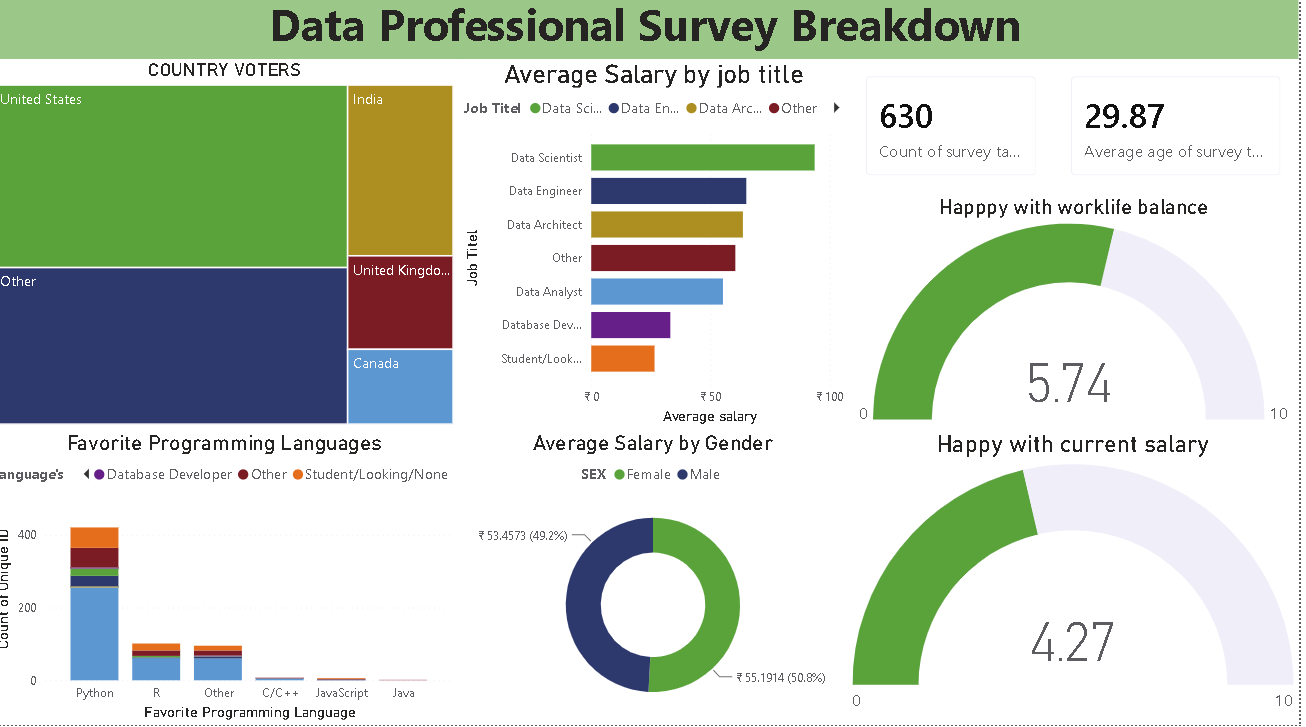

The dashboard page shown, as its layout file describes it:
{"tool":"powerbi","page":{"name":"Page 1","canvas":[1280,720],"ordinal":0},"visuals":[{"type":"textbox","box":[0,0,1280.3,68.9],"z":0},{"type":"cardVisual","fields":{"Data":["Count(Data Professional Survey.Unique ID)"]},"box":[840.1,68.9,200.7,131.8],"z":1000},{"type":"cardVisual","fields":{"Data":["Avg(Data Professional Survey.Q10 - Current Age)"]},"box":[1040.7,68.9,239.6,131.8],"z":2000},{"type":"barChart","title":"Average Salary by job title","fields":{"Category":["Data Professional Survey.Q1 - Which Title Best Fits your Current Role?.1"],"Y":["Avg(Data Professional Survey.Average salary)"],"Series":["Data Professional Survey.Q1 - Which Title Best Fits your Current Role?.1"]},"box":[458.2,68.9,381.8,362.4],"z":3000},{"type":"columnChart","title":"Favorite Programming Languages ","fields":{"Category":["Data Professional Survey.Q5 - Favorite Programming Language.1"],"Y":["Count(Data Professional Survey.Unique ID)"],"Series":["Data Professional Survey.Q1 - Which Title Best Fits your Current Role?.1"]},"box":[0,431.7,458.3,288.3],"z":4000},{"type":"treemap","title":"COUNTRY  VOTERS","fields":{"Values":["CountNonNull(Data Professional Survey.Q11 - Which Country do you live in?.1)"],"Group":["Data Professional Survey.Q11 - Which Country do you live in?.1"]},"box":[0,68.9,458.2,362.4],"z":5000},{"type":"gauge","title":"Happpy with worklife balance","fields":{"Y":["Avg(Data Professional Survey.Q6 - How Happy are you in your Current Position with the following? (Work/Life Balance))"],"MinValue":["Min(Data Professional Survey.Q6 - How Happy are you in your Current Position with the following? (Work/Life Balance))"],"MaxValue":["Max(Data Professional Survey.Q6 - How Happy are you in your Current Position with the following? (Work/Life Balance))1"]},"box":[840,200,440,231.7],"z":6000},{"type":"gauge","title":"Happy with current salary","fields":{"MinValue":["Min(Data Professional Survey.Q6 - How Happy are you in your Current Position with the following? (Salary))"],"Y":["Avg(Data Professional Survey.Q6 - How Happy are you in your Current Position with the following? (Salary))"],"MaxValue":["Max(Data Professional Survey.Q6 - How Happy are you in your Current Position with the following? (Salary))1"]},"box":[838.6,431.4,441.4,288.6],"z":7000},{"type":"donutChart","title":"Average Salary by Gender","fields":{"Category":["Data Professional Survey.Q9 - Male/Female?"],"Y":["Avg(Data Professional Survey.Average salary)"]},"box":[458.2,431.3,380.3,289],"z":7001}]}

Visuals, with their boxes in screenshot pixels (x1, y1, x2, y2), scaled from the page's 1280x720 canvas onto the 1306x727 screenshot:
textbox: locate(0, 0, 1305, 70)
cardVisual - Count(Data Professional Survey.Unique ID): locate(857, 70, 1062, 203)
cardVisual - Avg(Data Professional Survey.Q10 - Current Age): locate(1062, 70, 1305, 203)
"Average Salary by job title" barChart: locate(468, 70, 857, 435)
"Favorite Programming Languages " columnChart: locate(0, 436, 468, 726)
"COUNTRY  VOTERS" treemap: locate(0, 70, 468, 435)
"Happpy with worklife balance" gauge: locate(857, 202, 1305, 436)
"Happy with current salary" gauge: locate(856, 436, 1305, 726)
"Average Salary by Gender" donutChart: locate(468, 435, 856, 726)
